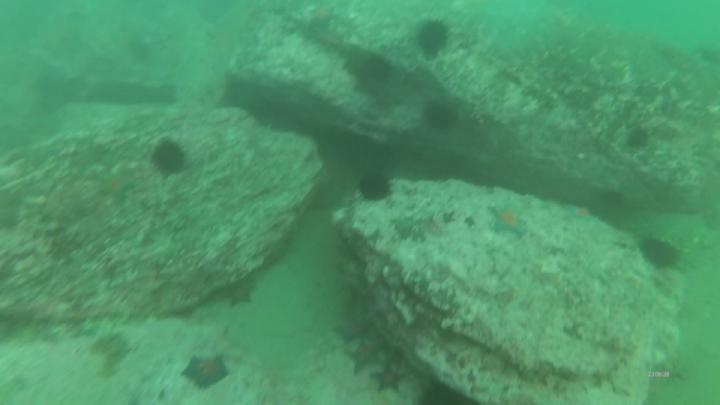echinus: (148, 136, 191, 179), (415, 19, 456, 58), (355, 167, 397, 204), (643, 233, 680, 274), (423, 100, 463, 135), (625, 127, 652, 150)
starfish: (181, 353, 234, 392), (92, 168, 137, 203), (487, 204, 529, 238), (345, 343, 385, 374), (332, 316, 375, 343), (373, 363, 407, 396), (222, 281, 258, 310), (306, 6, 341, 29), (564, 202, 596, 227)
